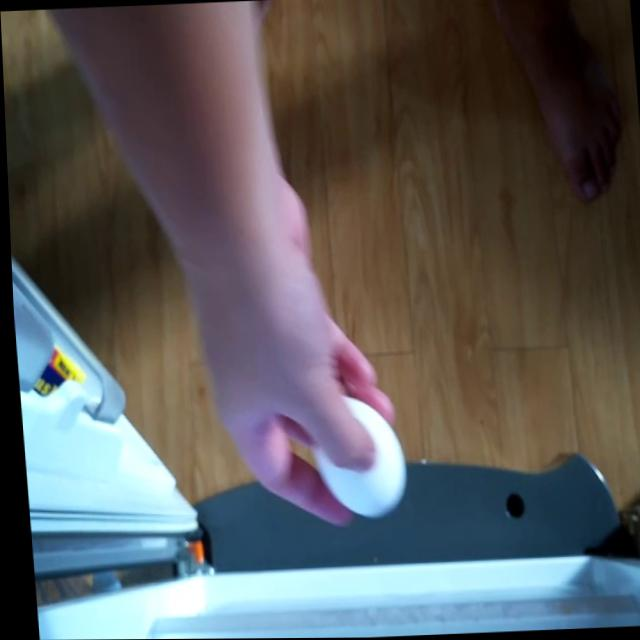egg: (301, 392, 407, 520)
